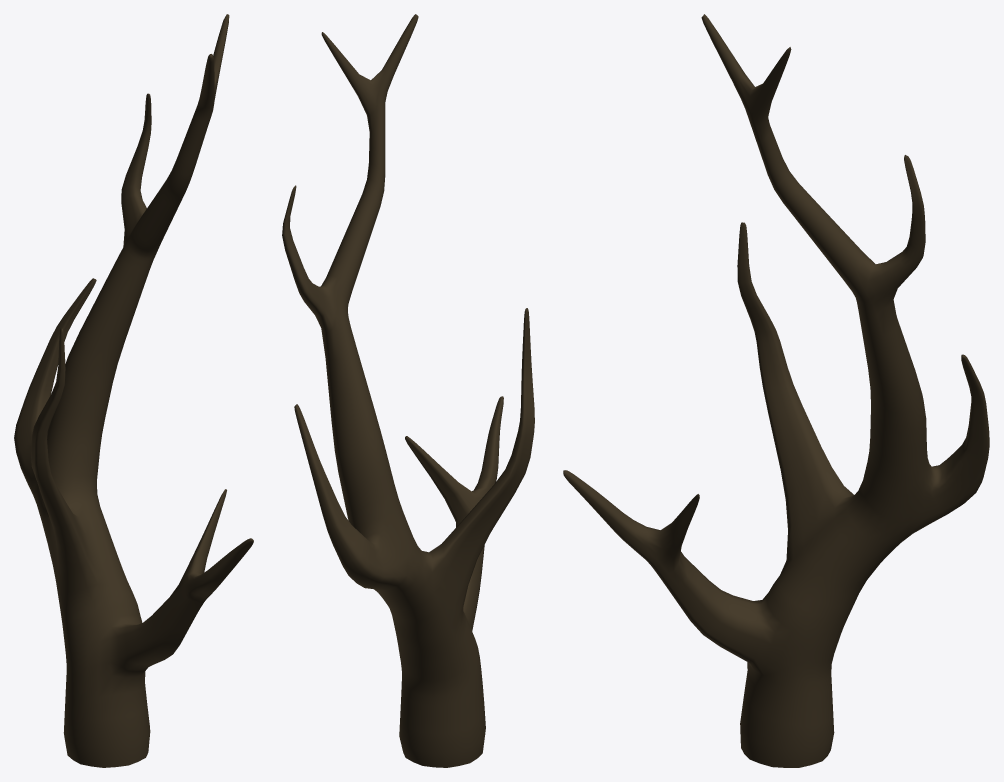
File: Arbol Medieval 2.fbx
3 views of the same model, side by side, from view 1: azimuth 30°, elevation 25°; view 2: azimuth 150°, elevation 25°; view 3: azimuth 270°, elevation 25° (orthographic). The views are drawn at different scales.
Parts seen in each view (by area): view 1: Arbol_2; view 2: Arbol_2; view 3: Arbol_2.
Part boxes in pixels (box(x1,y1,x2,y2)): Arbol_2: box(14, 14, 253, 767); Arbol_2: box(282, 14, 534, 767); Arbol_2: box(563, 14, 989, 767).
Size of the model in its own units: 5.89 by 19.48 by 9.78.
